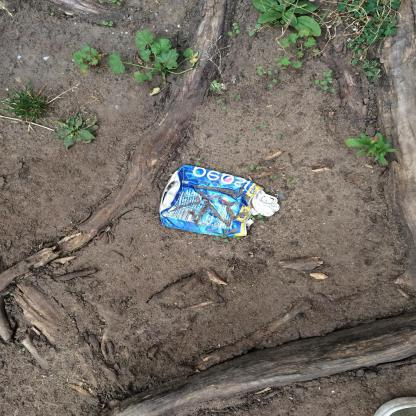metal: (159, 165, 281, 239)
